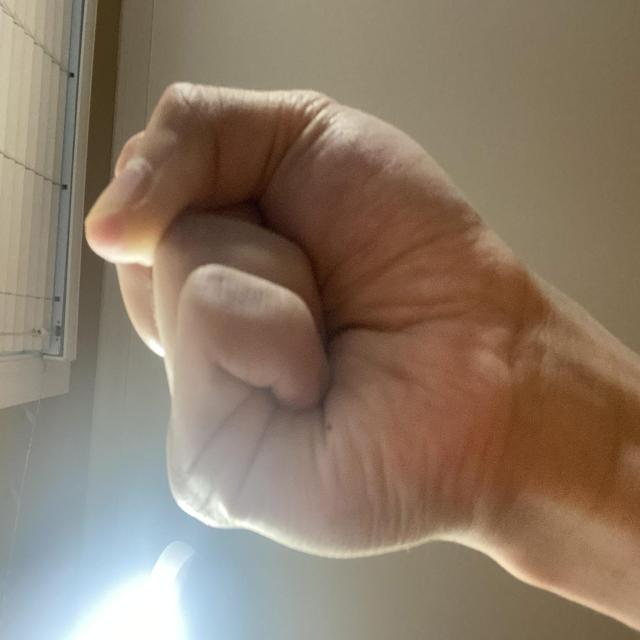S: (57, 102, 426, 640)
